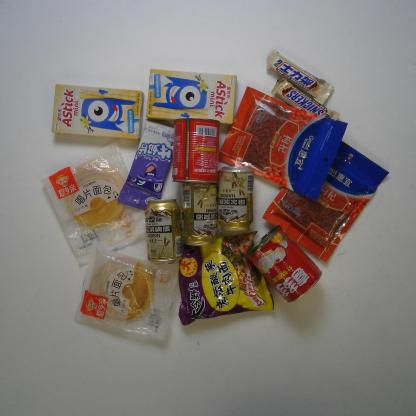Alcohol: (144, 197, 184, 266), (180, 182, 220, 247), (217, 164, 255, 232)
Candy: (116, 119, 175, 211)
Canned Food: (245, 224, 322, 303), (170, 117, 221, 183)
Chocolate: (266, 49, 336, 105), (271, 76, 342, 121)
Dessert: (40, 143, 146, 268), (72, 239, 181, 345), (144, 67, 238, 126), (51, 83, 145, 141)
Dried Fruit: (261, 139, 390, 264), (218, 85, 350, 201)
Instant Noodles: (177, 229, 275, 327)
